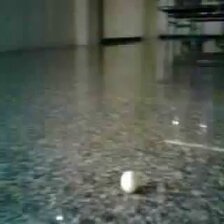w: (119, 170, 141, 192)
